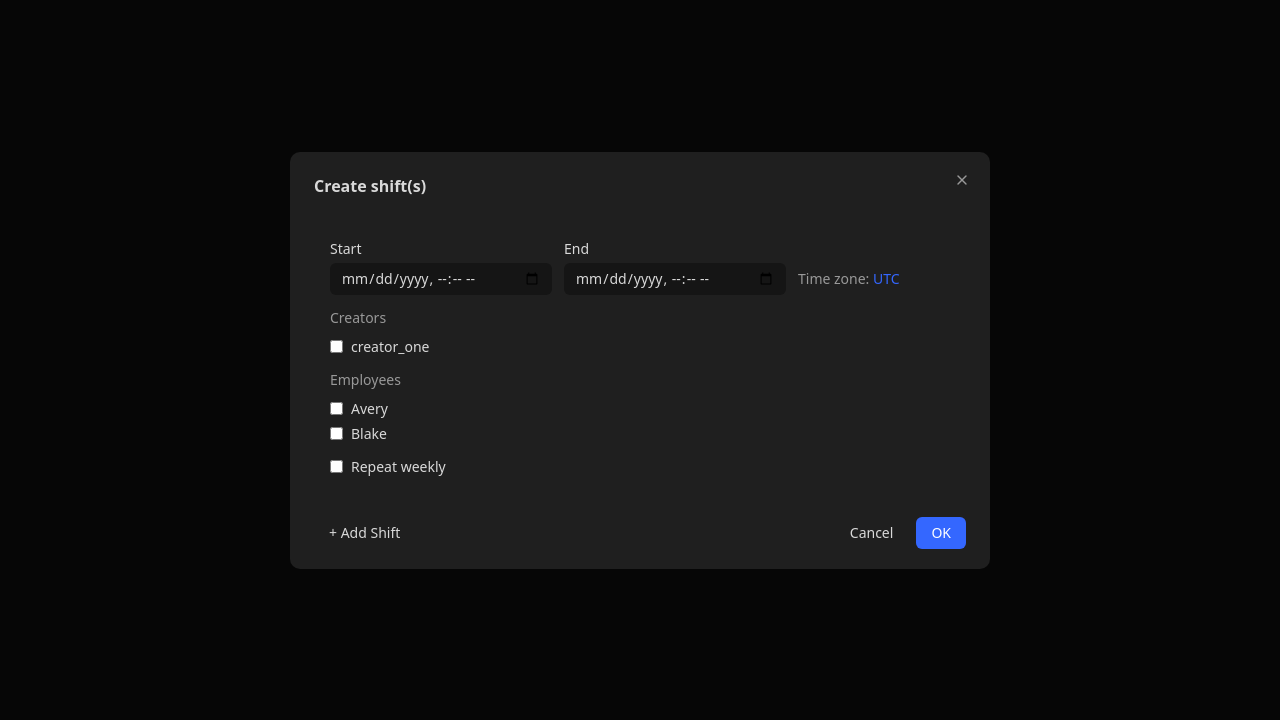
Scenario: Common periods and Replace › the Shift's own double-staffing offers no Replace
The image size is (1280, 720).
Click the checkbox labelled "creator_one" at {"x": 336, "y": 346}, box [330,340,343,352]
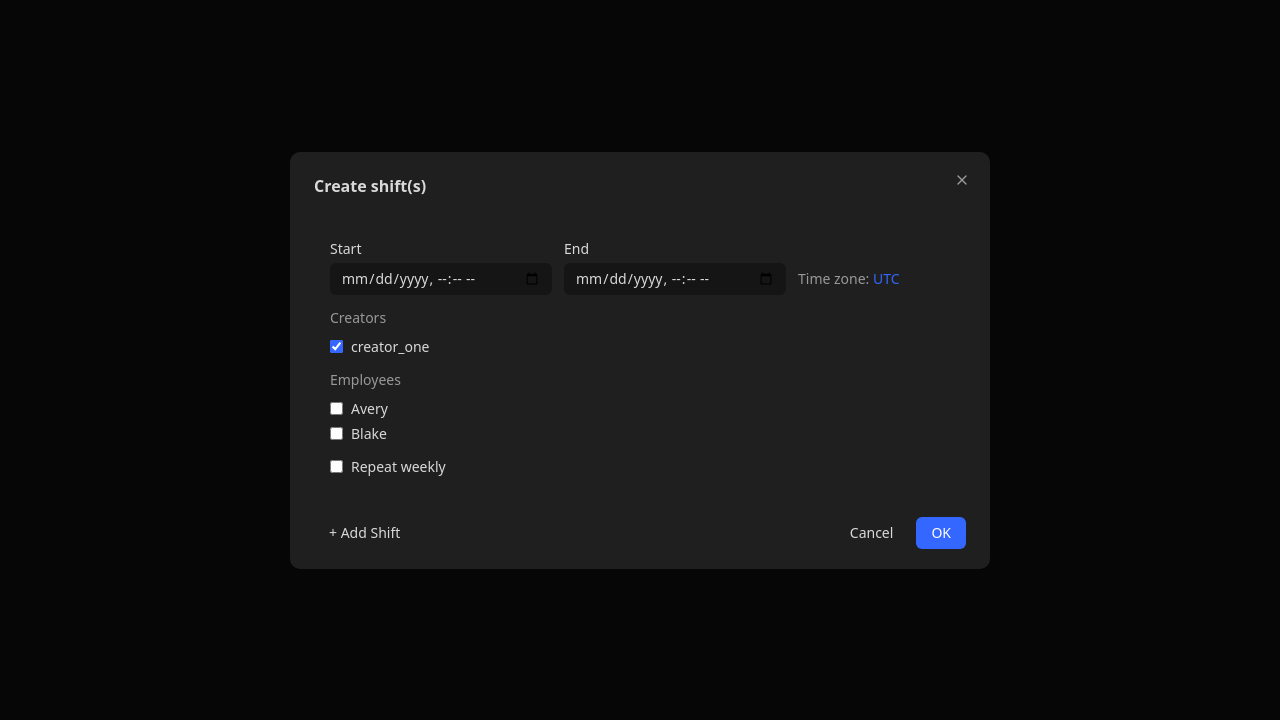
Click the checkbox labelled "Avery" at {"x": 336, "y": 408}, box [330,402,343,414]
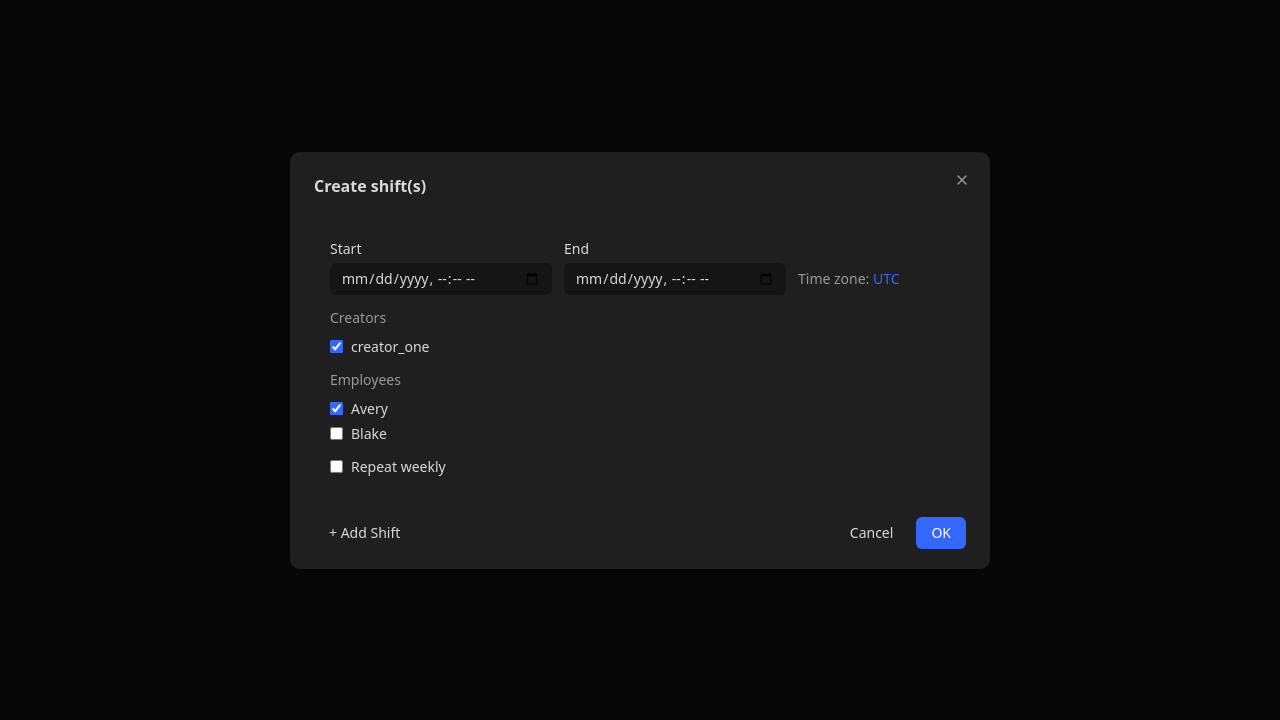
Type "2026-10-14T09:00" into the field labelled "Start" at {"x": 441, "y": 278}, box [330,262,552,294]
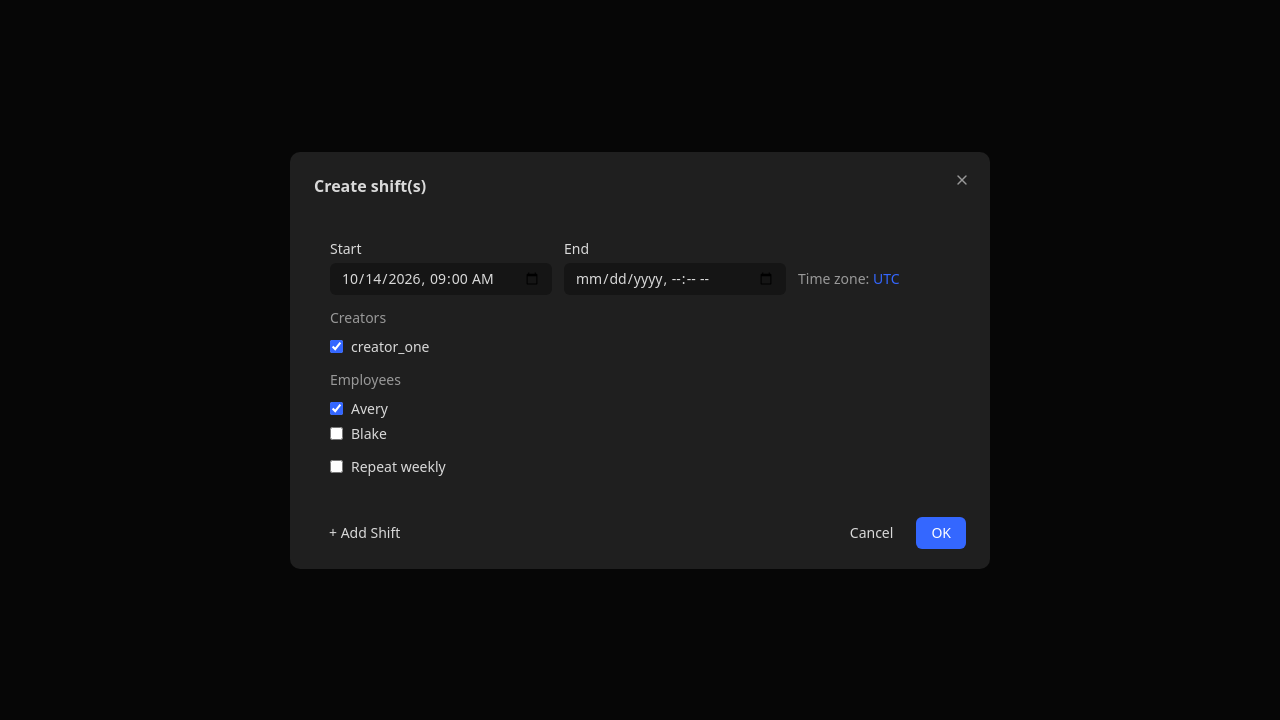
Type "2026-10-14T17:00" into the field labelled "End" at {"x": 675, "y": 278}, box [564,262,786,294]
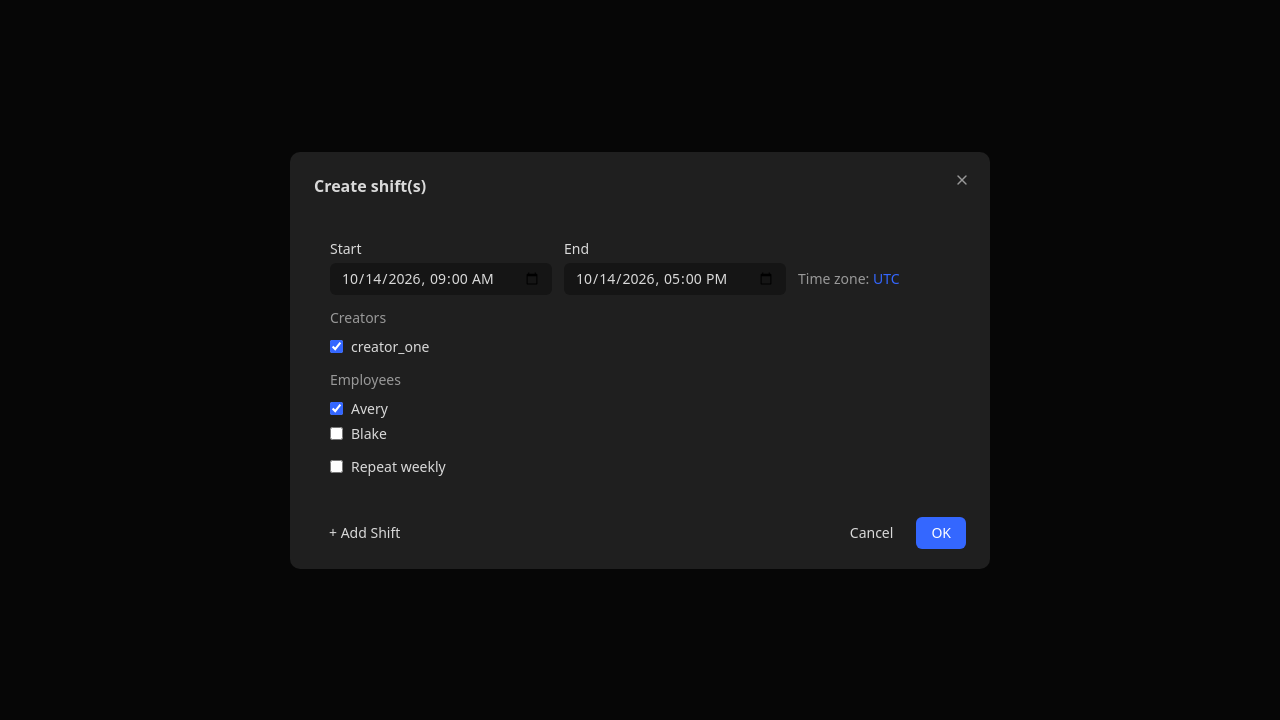
Click the button "OK" at {"x": 941, "y": 532}, box [916,516,966,548]
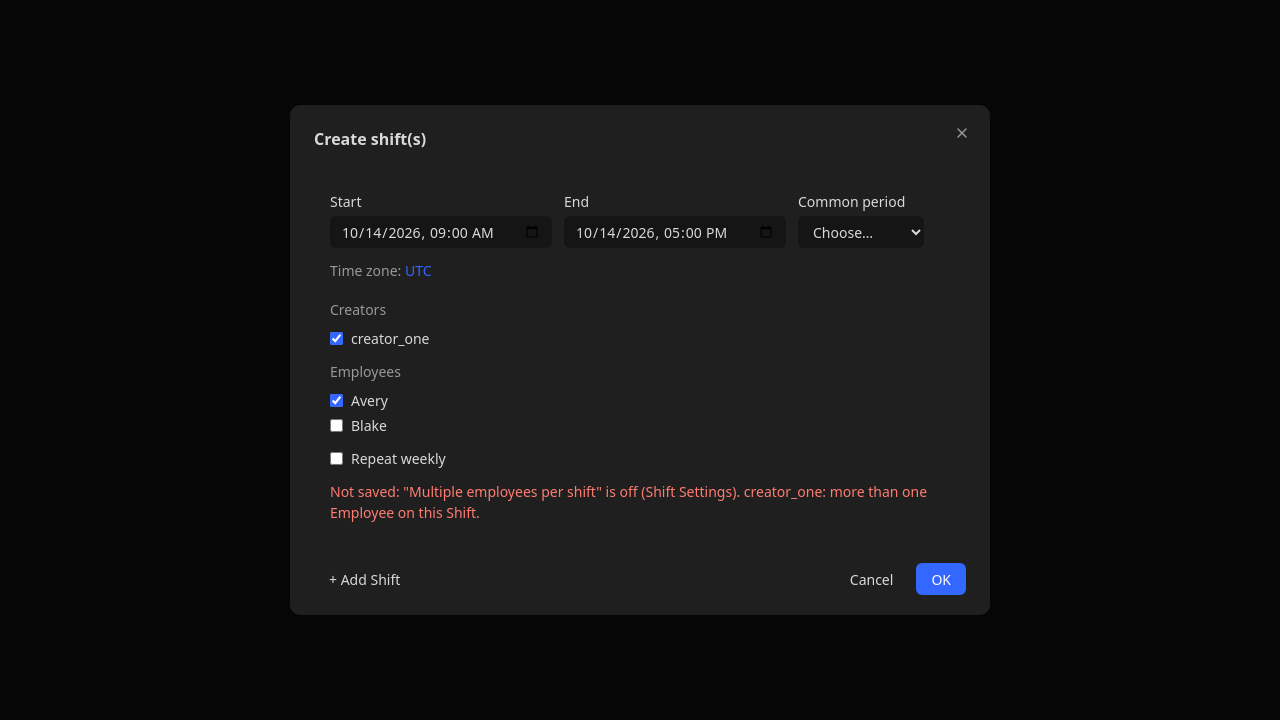
Result: the text "more than one Employee on this Shift" is shown at [330,482,927,522]
